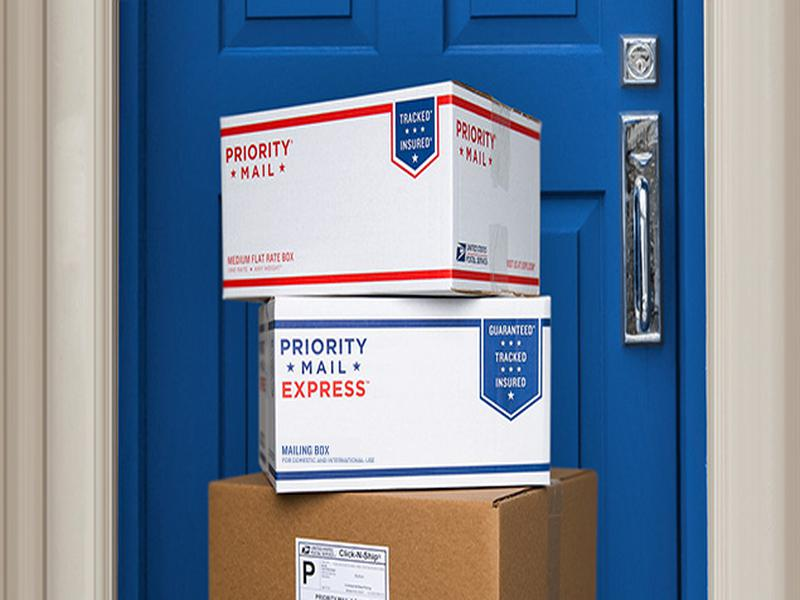package: (208, 72, 549, 304), (248, 286, 562, 501), (199, 460, 604, 588)
